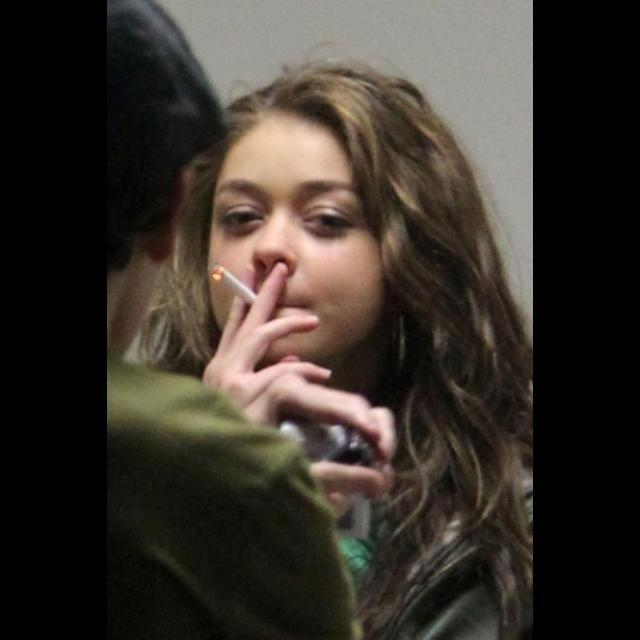rokok: (210, 259, 262, 311)
